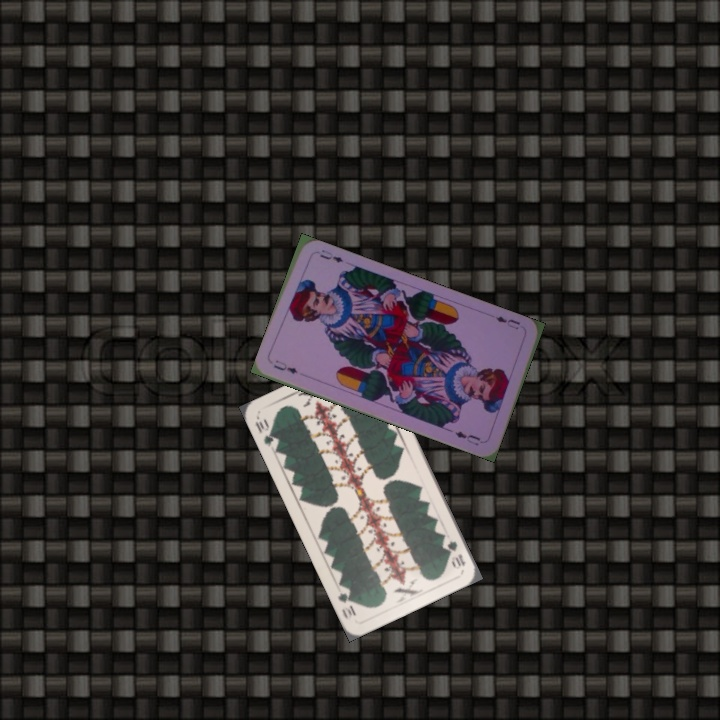EU: (491, 312, 526, 332), (269, 356, 300, 376)
G10: (251, 415, 281, 450), (443, 537, 468, 569)
